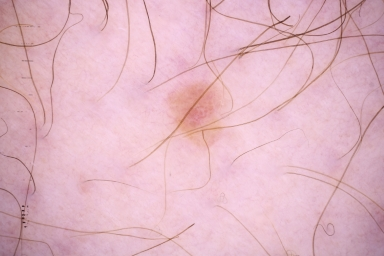nevus: (167, 80, 219, 141)
